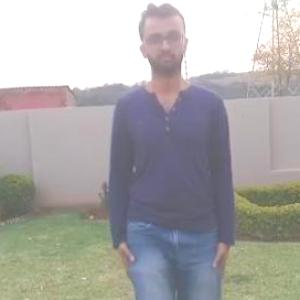follow: (103, 0, 241, 299)
